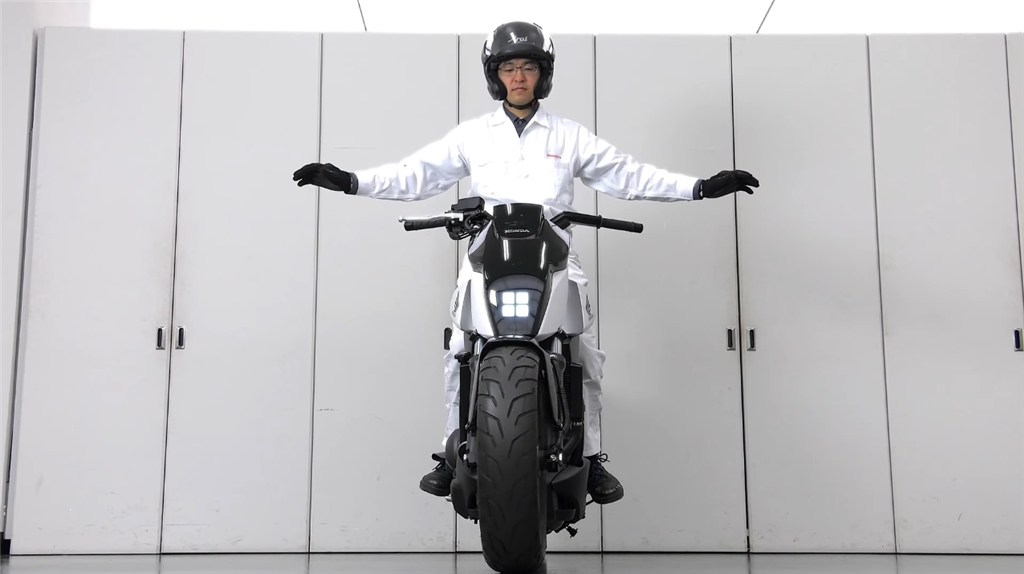helmet: (479, 19, 558, 107)
motorcycle: (403, 194, 647, 574)
